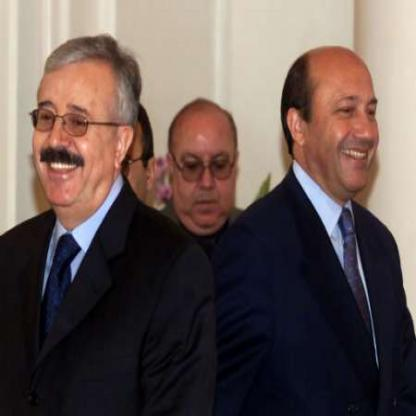face: (30, 43, 122, 214), (304, 48, 386, 198), (172, 102, 240, 233)
